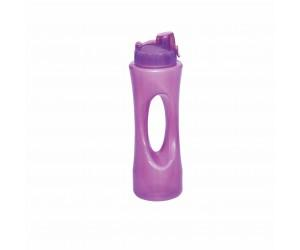PP: (65, 0, 300, 250)
